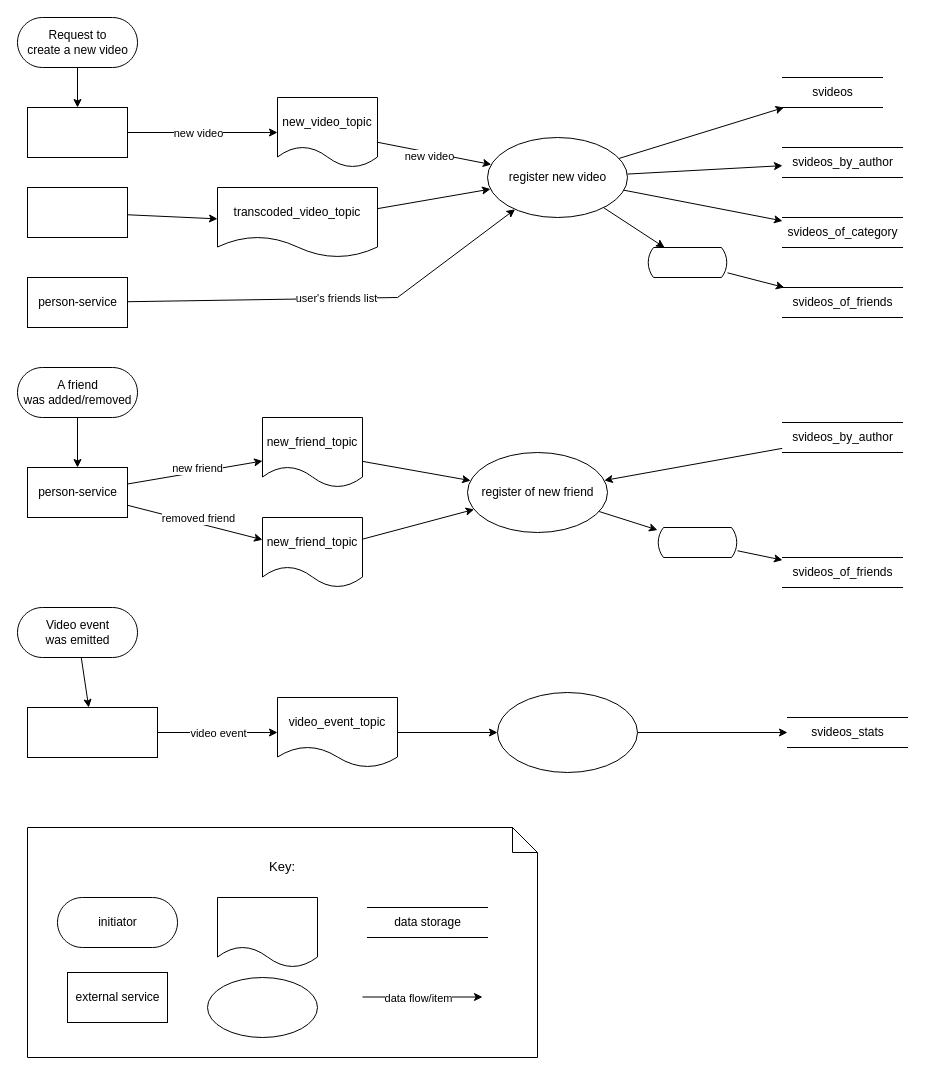
Image size: 925x1075. Some labels were removed from this diagram. Each missing label, with the box of its shape:
friends loop: (646, 246, 728, 278)
kafka topic: (216, 896, 318, 968)
process: (206, 976, 318, 1038)
svr-api-server: (26, 106, 128, 158)
transcoder: (26, 186, 128, 238)
update video stats counters: (496, 692, 638, 772)
videos loop: (656, 526, 738, 558)
vsvideo-stats-service: (26, 706, 158, 758)
